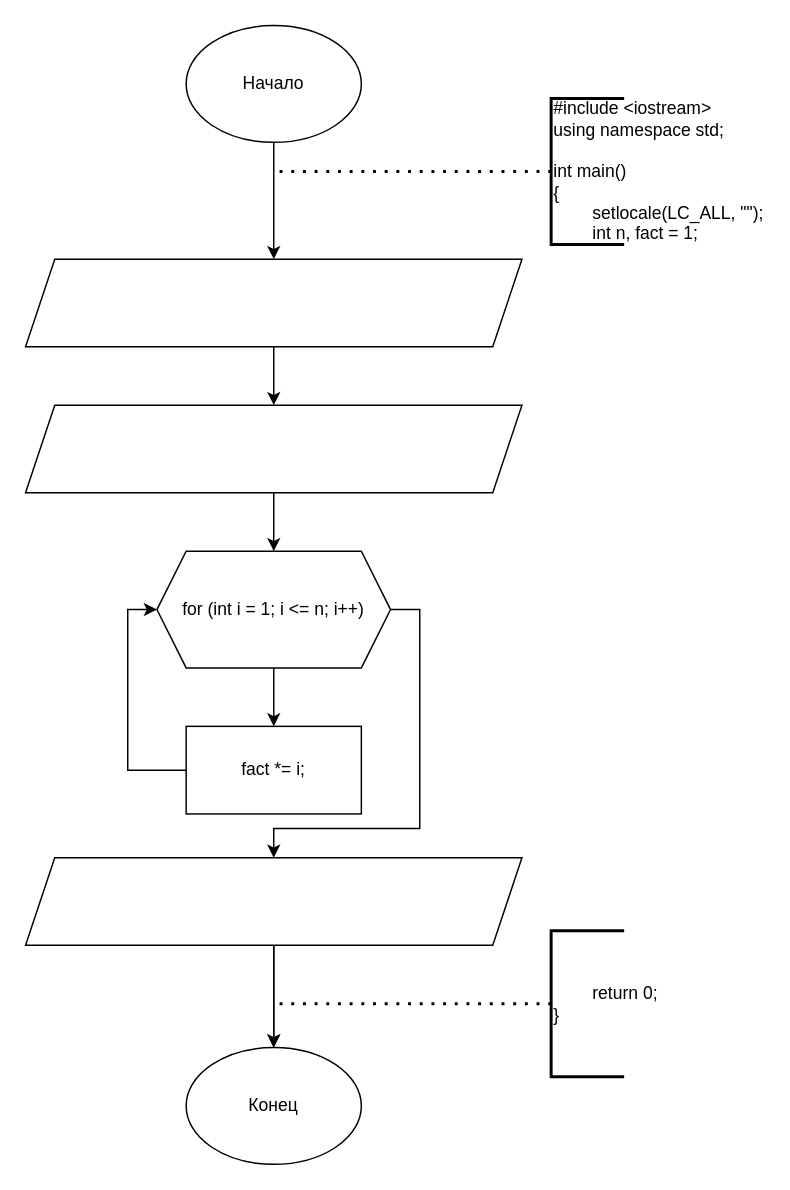
Image size: 790x1190. Some labels were removed from this diagram. The shapes that lost their labels are listed below. From the top down, each one's centre as x and y in pixels, then its label:
(273,302): cout << "Введите число: \n";
(273,448): cin >> n;
(273,900): cout << "Произведение " << n << " первых чисел равно: " << fact << endl;
